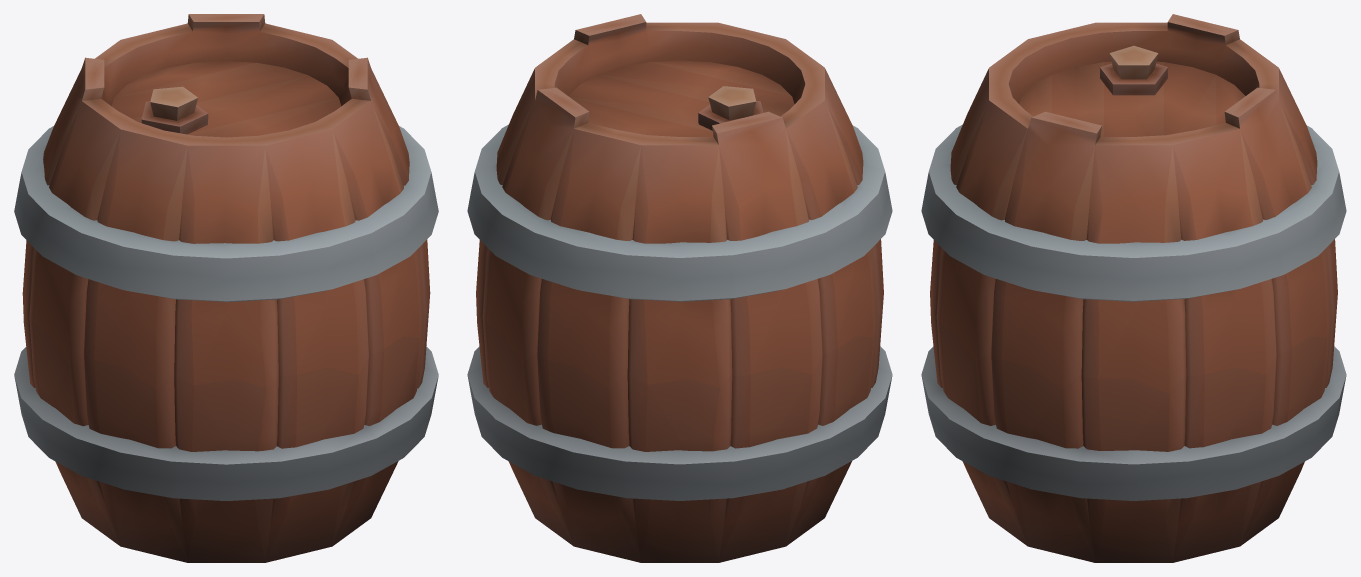
The model's file is prop_barrel_large.glb.
The picture shows the model from 3 angles, left to right: view 1: azimuth 30°, elevation 25°; view 2: azimuth 150°, elevation 25°; view 3: azimuth 270°, elevation 25°; orthographic projection.
Parts seen in each view (by area): view 1: prop_barrel_large; view 2: prop_barrel_large; view 3: prop_barrel_large.
Boxes of the visible parts, x1,y1,x2,y2 form: prop_barrel_large: (14, 14, 438, 562); prop_barrel_large: (467, 14, 892, 562); prop_barrel_large: (921, 14, 1346, 562).
Bounding box in the file's own units: 1.8 × 2 × 1.8.
